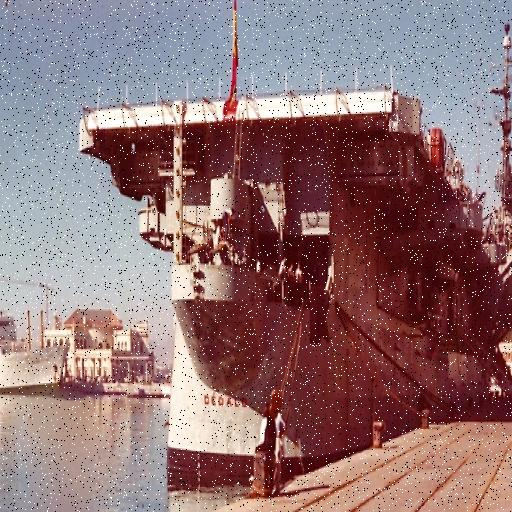Portanaves: (76, 10, 512, 498)
